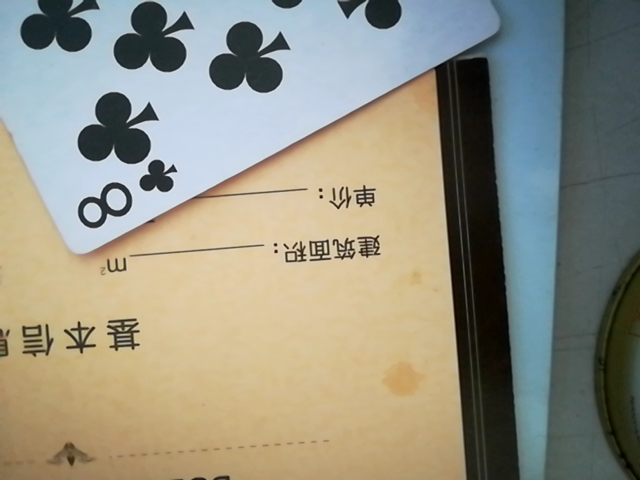mh 8: (8, 0, 537, 265)
